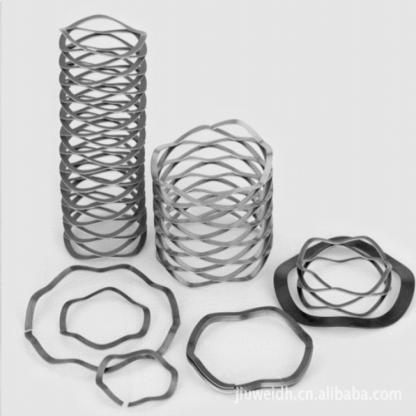FOD: (59, 13, 151, 263)
